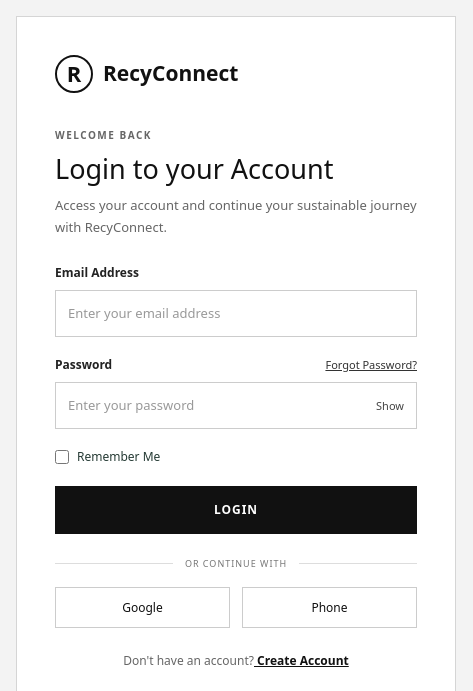
Scenario: Login Component › updates the Remember Me checkbox when clicked
Click the checkbox labelled "Remember Me": (62, 457) [55,450,69,464]
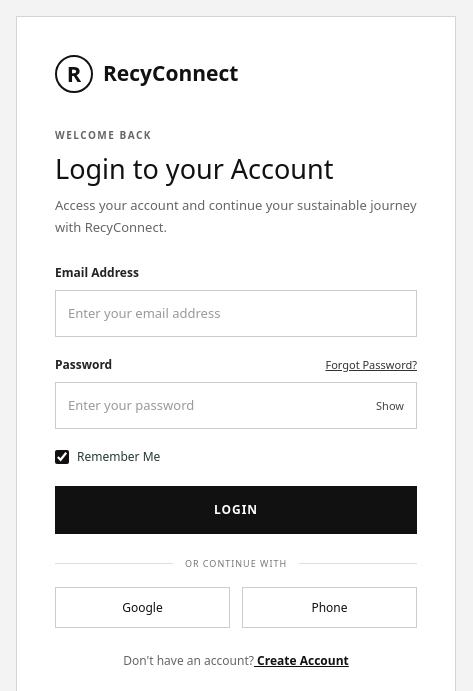
Expected: the checkbox labelled "Remember Me" is checked, [55,450,69,464]
